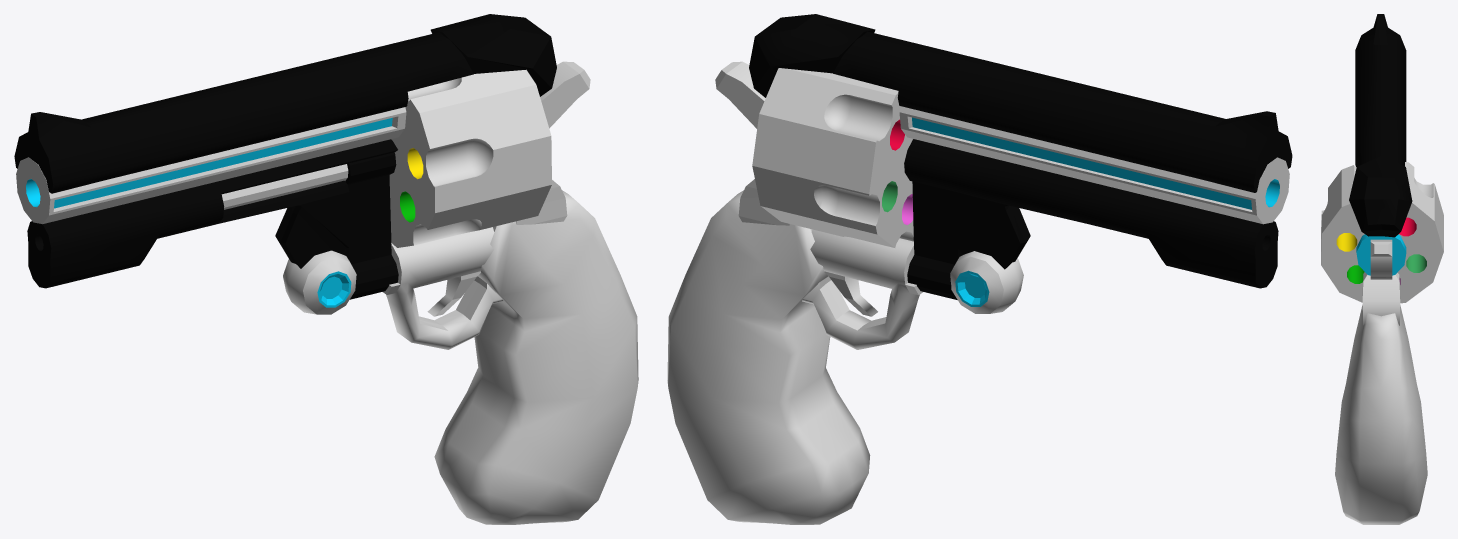
The model's file is GunMesh_v1.fbx.
3 views of the same model, side by side, from view 1: azimuth 30°, elevation 25°; view 2: azimuth 150°, elevation 25°; view 3: azimuth 270°, elevation 25° (orthographic). The views are drawn at different scales.
Parts seen in each view (by area): view 1: BaseGun, Barrel, Hinge, TopSwitch, Trigger; view 2: BaseGun, Barrel, Hinge, TopSwitch, Trigger; view 3: BaseGun, Barrel, TopSwitch.
Boxes of the visible parts, x1,y1,x2,y2 form: BaseGun: (14,14,638,524); Barrel: (389,69,551,247); Hinge: (221,152,398,299); TopSwitch: (540,61,590,128); Trigger: (427,271,480,316); BaseGun: (667,14,1292,524); Barrel: (752,68,913,247); Hinge: (907,173,958,299); TopSwitch: (715,61,765,128); Trigger: (824,271,877,316); BaseGun: (1335,14,1427,524); Barrel: (1321,162,1443,303); TopSwitch: (1370,239,1392,279).
Bounding box in the file's own units: 111 × 30.58 × 94.66.
